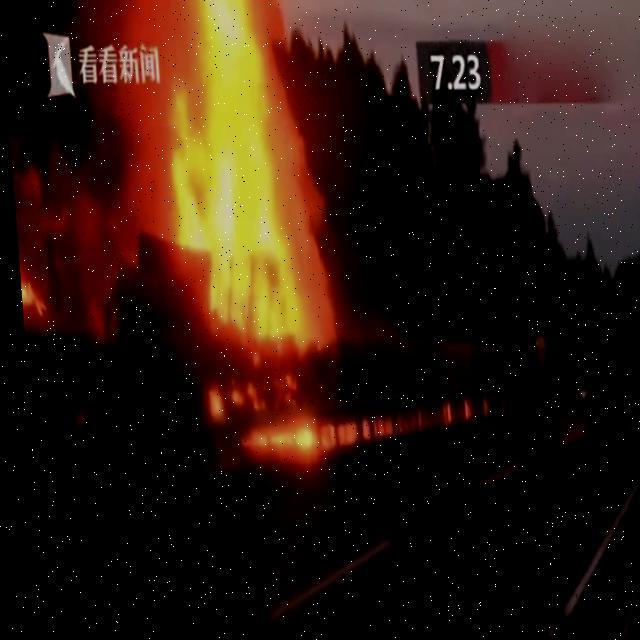Fire: (162, 0, 332, 452)
